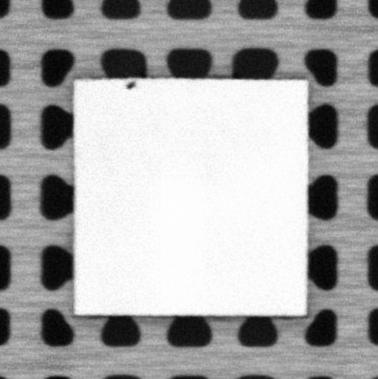DIE_INK: (124, 79, 137, 90)
